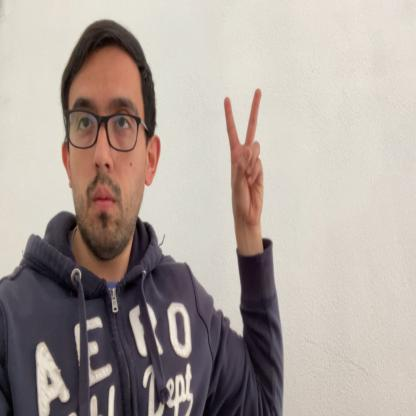V: (225, 89, 265, 230)
